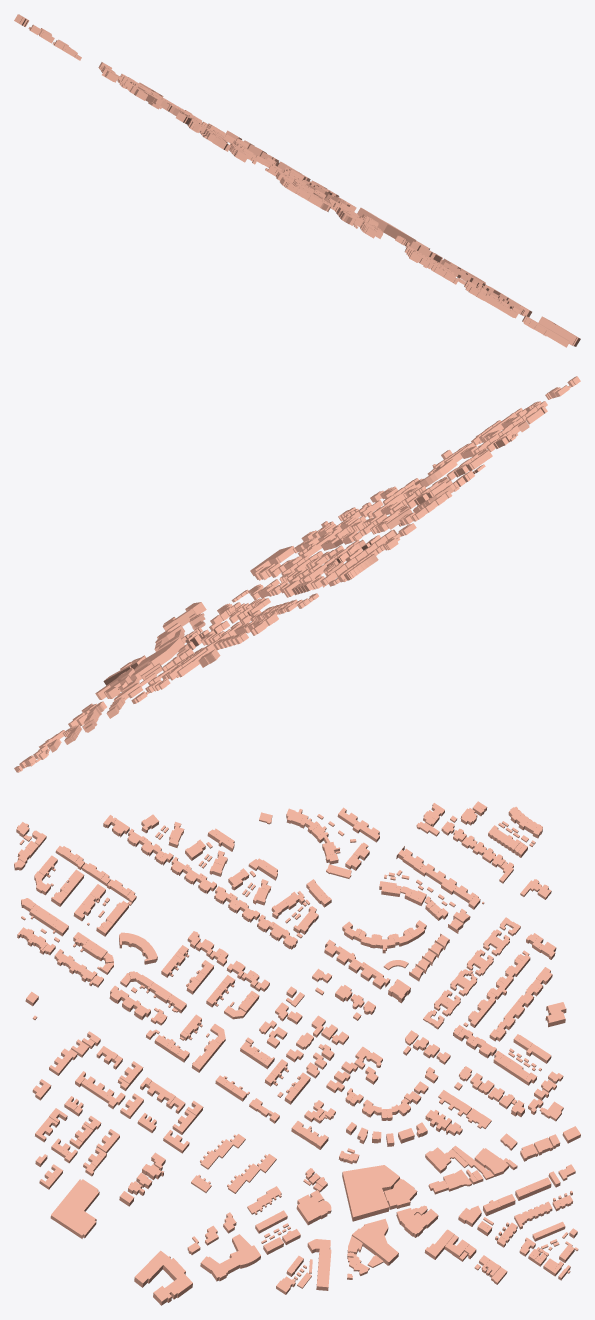
The picture shows the model from 3 angles, top to bottom: view 1: azimuth 30°, elevation 25°; view 2: azimuth 150°, elevation 25°; view 3: azimuth 270°, elevation 25°; orthographic projection. The views are drawn at different scales.
Bounding box in the file's own units: 531 × 388 × 642.
